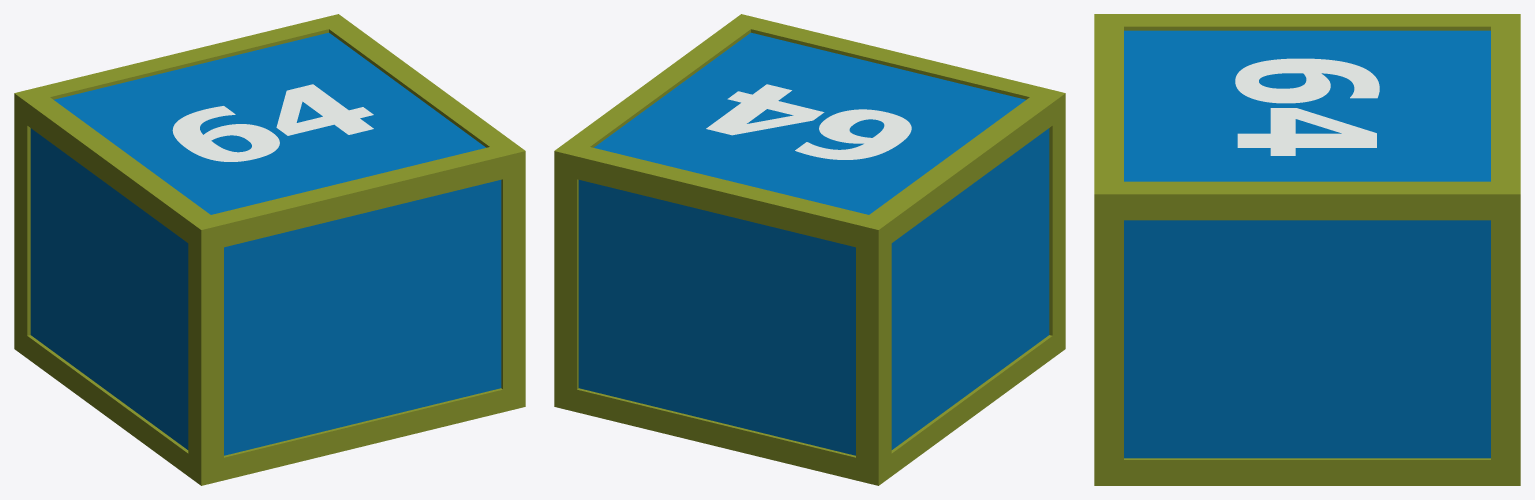
Rendered from 64Prefab.fbx.
3 views of the same model, side by side, from view 1: azimuth 30°, elevation 25°; view 2: azimuth 150°, elevation 25°; view 3: azimuth 270°, elevation 25° (orthographic). The views are drawn at different scales.
Parts seen in each view (by area): view 1: Text.005; view 2: Text.005; view 3: Text.005.
Part boxes in pixels (left/top/right/bottom): Text.005: left=14, top=14, right=525, bottom=485; Text.005: left=554, top=14, right=1065, bottom=485; Text.005: left=1094, top=14, right=1520, bottom=485.
Size of the model in its own units: 194 by 146 by 194.
